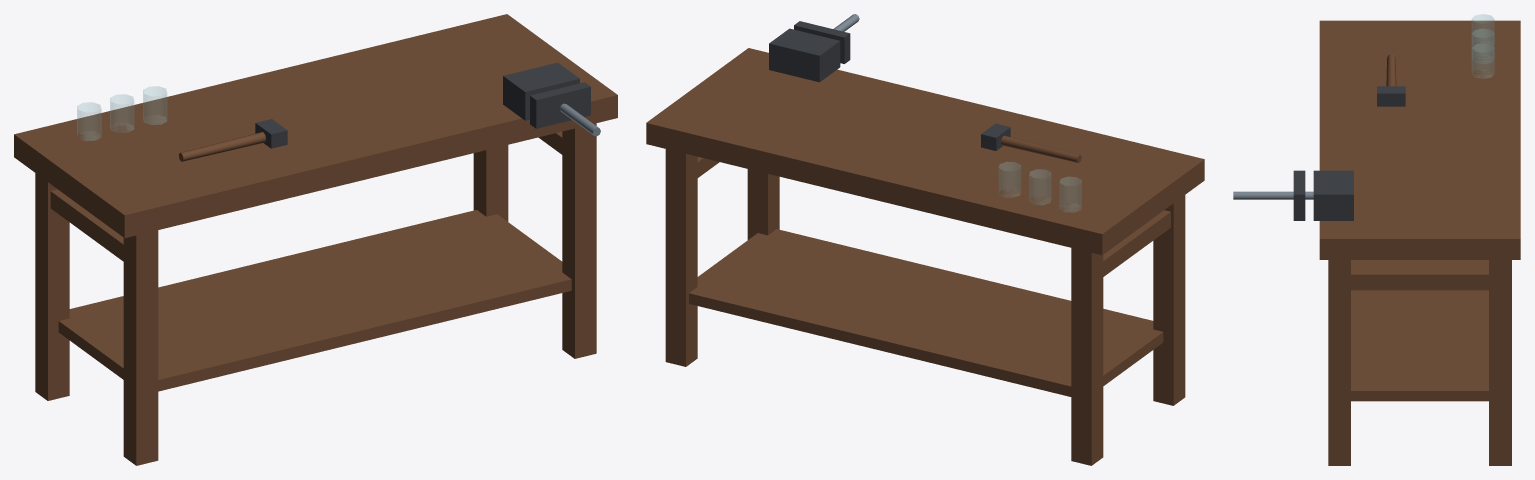
Rendered from workbench-lod1.glb.
3 views of the same model, side by side, from view 1: azimuth 30°, elevation 25°; view 2: azimuth 150°, elevation 25°; view 3: azimuth 270°, elevation 25° (orthographic). The views are drawn at different scales.
Parts seen in each view (by area): view 1: top, lower-shelf, leg (×4), vise-body, vise-jaw, stretcher, hammer-handle, jar-0, jar-2, jar-1, hammer-head; view 2: top, lower-shelf, leg (×4), vise-body, stretcher, vise-jaw, hammer-handle, jar-1, jar-0, jar-2, hammer-head; view 3: top, lower-shelf, leg (×2), stretcher, vise-body, jar-2, jar-1, vise-jaw, jar-0, vise-screw, hammer-head, hammer-handle.
Part boxes in pixels (<box>): top: <box>14,14,617,237</box>; lower-shelf: <box>58,210,571,391</box>; leg (×4): <box>35,123,596,465</box>; vise-body: <box>503,62,579,120</box>; vise-jaw: <box>530,82,590,128</box>; stretcher: <box>50,189,123,261</box>; hammer-handle: <box>178,132,265,161</box>; jar-0: <box>77,102,101,140</box>; jar-2: <box>143,86,166,124</box>; jar-1: <box>110,94,133,132</box>; hammer-head: <box>255,119,287,148</box>; top: <box>646,48,1204,255</box>; lower-shelf: <box>689,229,1163,396</box>; leg (×4): <box>665,149,1185,465</box>; vise-body: <box>769,28,840,82</box>; stretcher: <box>1103,210,1170,276</box>; vise-jaw: <box>794,21,850,63</box>; hammer-handle: <box>1001,135,1081,162</box>; jar-1: <box>1029,169,1051,204</box>; jar-0: <box>1059,177,1081,212</box>; jar-2: <box>999,162,1020,197</box>; hammer-head: <box>981,123,1010,150</box>; top: <box>1319,20,1520,259</box>; lower-shelf: <box>1351,260,1488,401</box>; leg (×2): <box>1328,260,1511,465</box>; stretcher: <box>1351,267,1488,290</box>; vise-body: <box>1313,170,1353,220</box>; jar-2: <box>1472,43,1494,78</box>; jar-1: <box>1472,29,1494,63</box>; vise-jaw: <box>1293,170,1305,220</box>; jar-0: <box>1472,14,1494,45</box>; vise-screw: <box>1233,191,1313,199</box>; hammer-head: <box>1377,86,1405,106</box>; hammer-handle: <box>1386,54,1396,86</box>.
Bounding box in the file's own units: 1.8 × 1 × 1.
